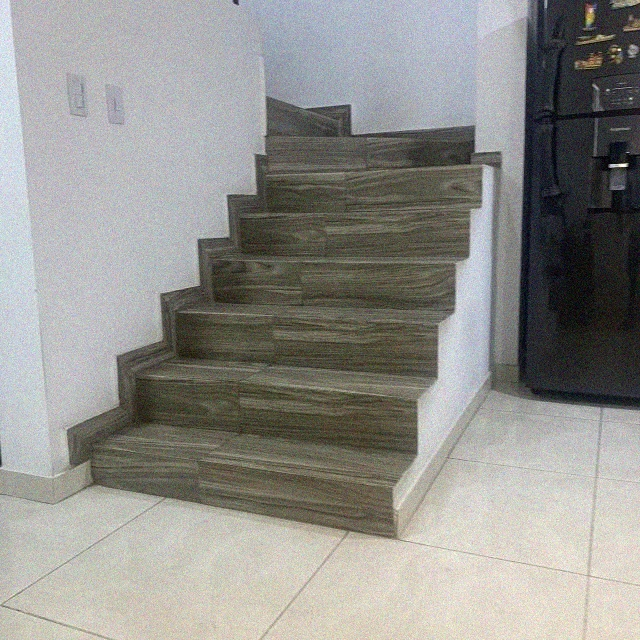stair: (61, 112, 504, 553)
